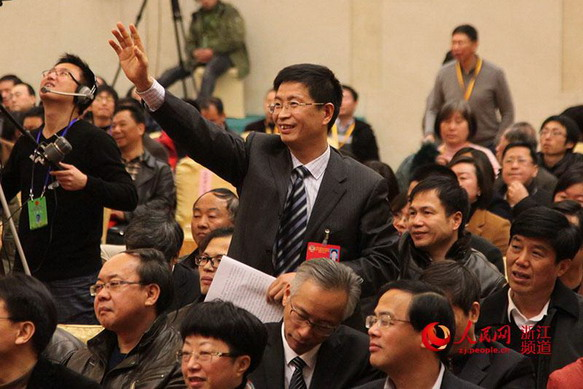handsup: (105, 14, 401, 312)
